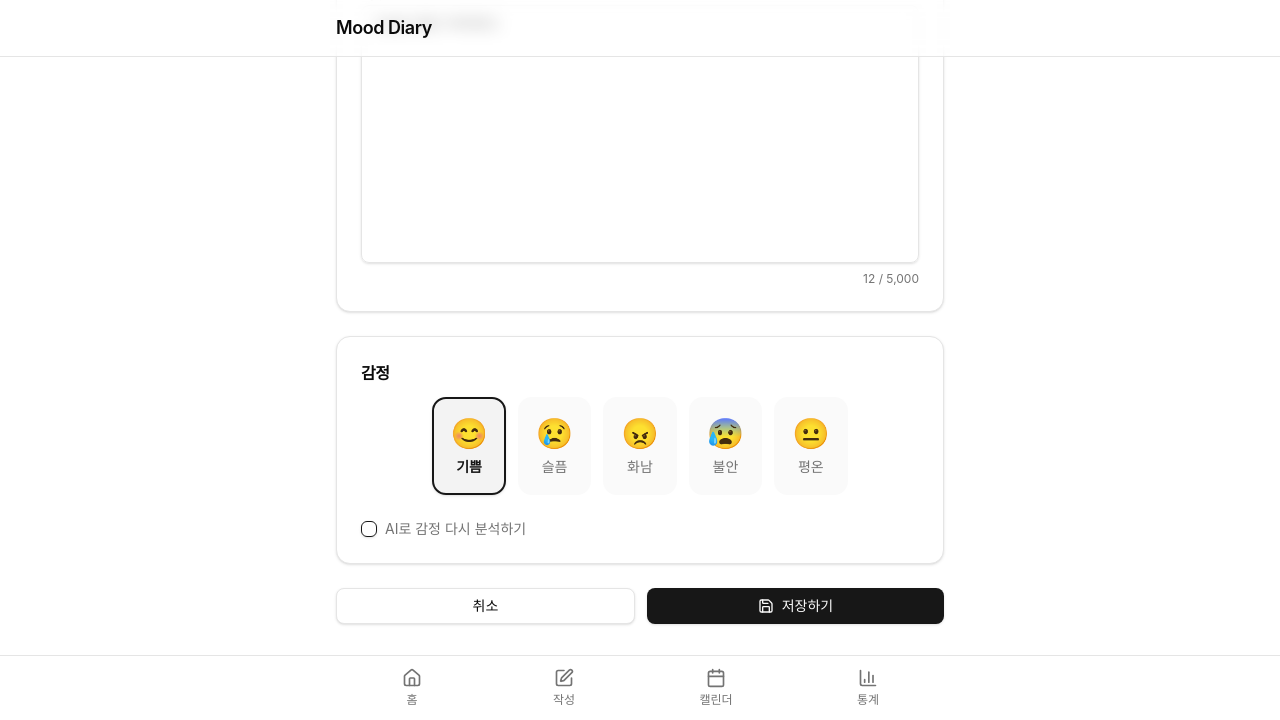
Test: EditPage (TC-010) › TC-010-2: 내용 수정 후 AI 재분류 › AI 재분류 중 로딩 화면이 표시된다
(page scrolled)
Expected: the text box is shown, [361,5,919,263]
Note:  체크박스 선택
Click the checkbox: (369, 529) [361,521,377,537]
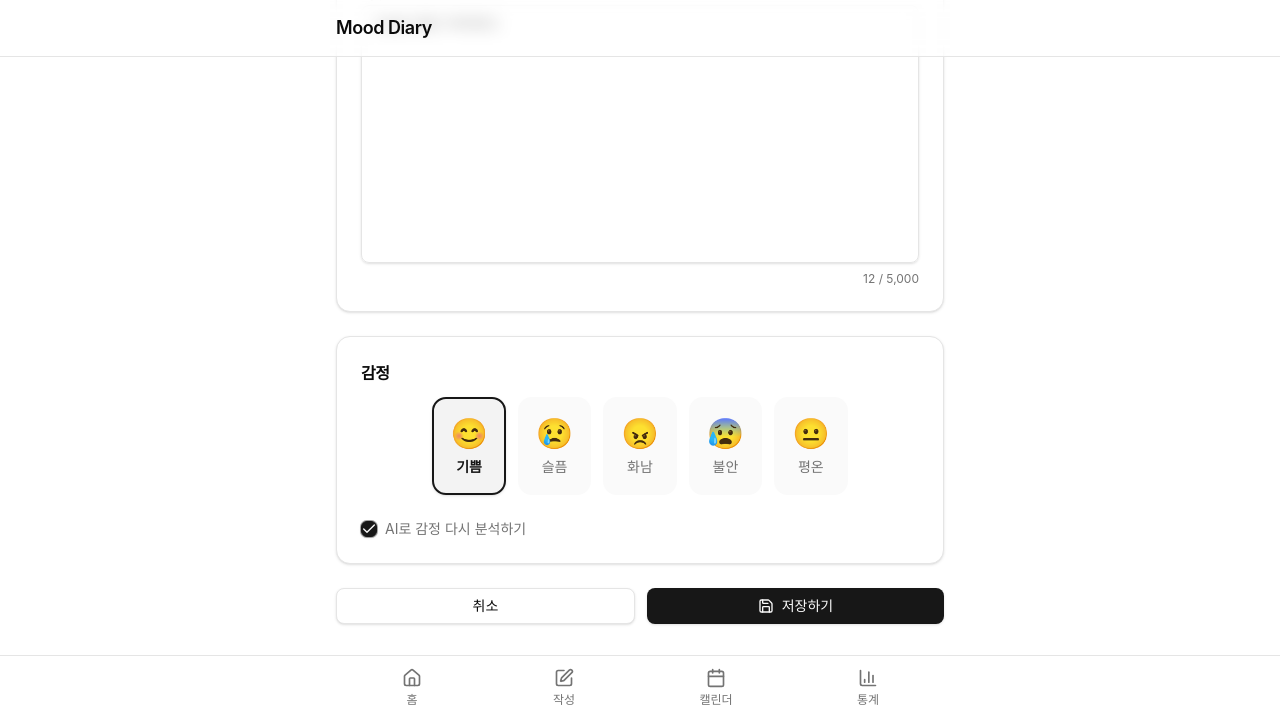
Note: 저장 버튼 클릭
Click the button "저장하기": (796, 606) [647,588,944,624]
(page scrolled)
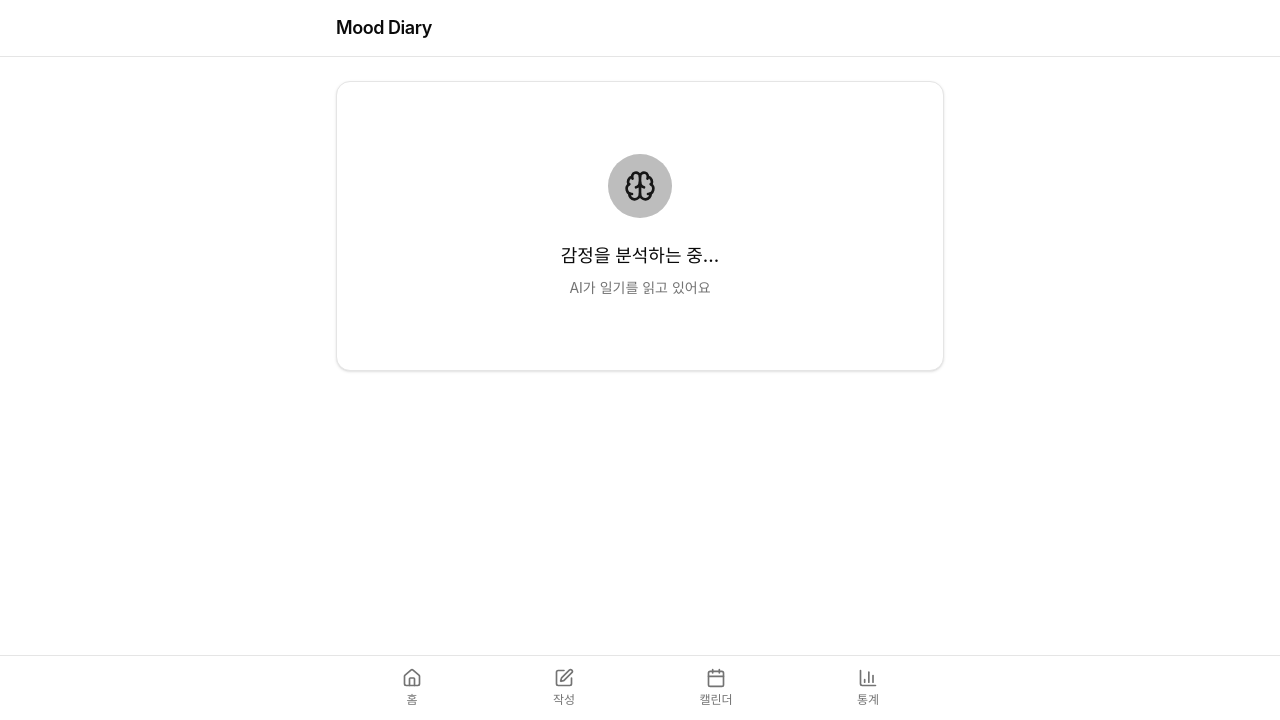
Result: the text "감정을 분석하는 중..." is shown at [561,242,719,270]
